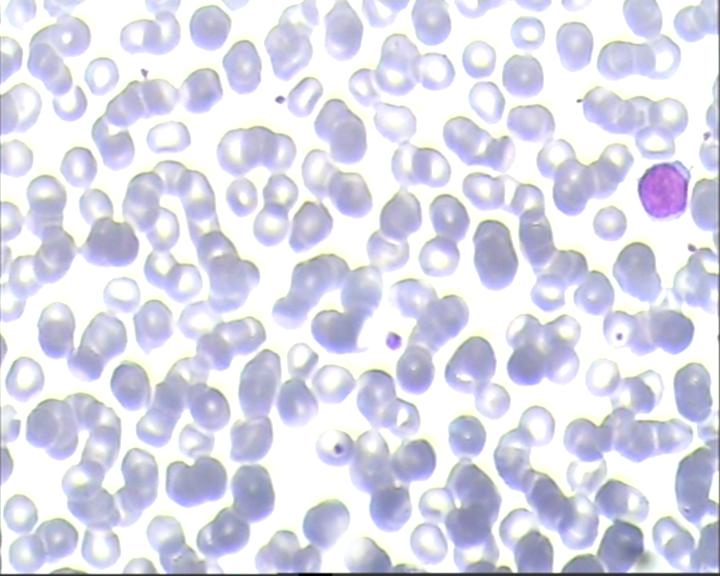lymp: (634, 159, 695, 224)
